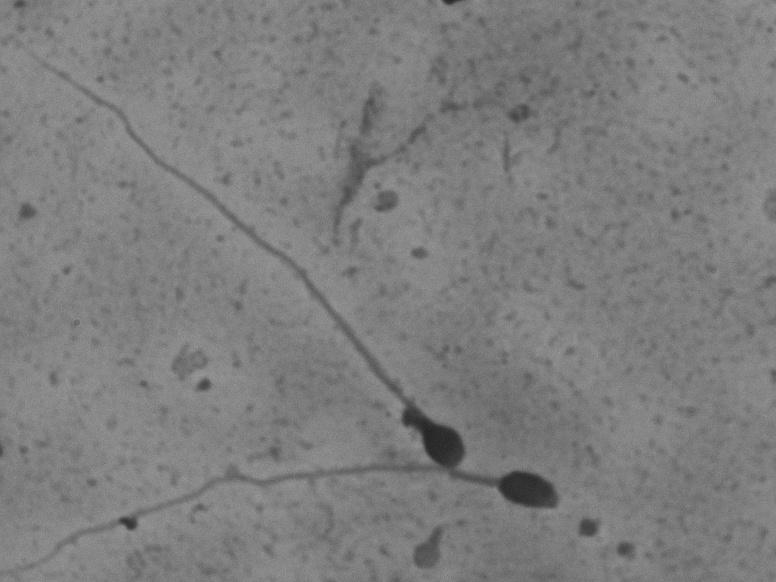Normal: (4, 35, 478, 471), (12, 447, 574, 579)
